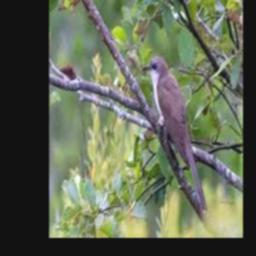Cuckoo: (143, 56, 208, 212)
